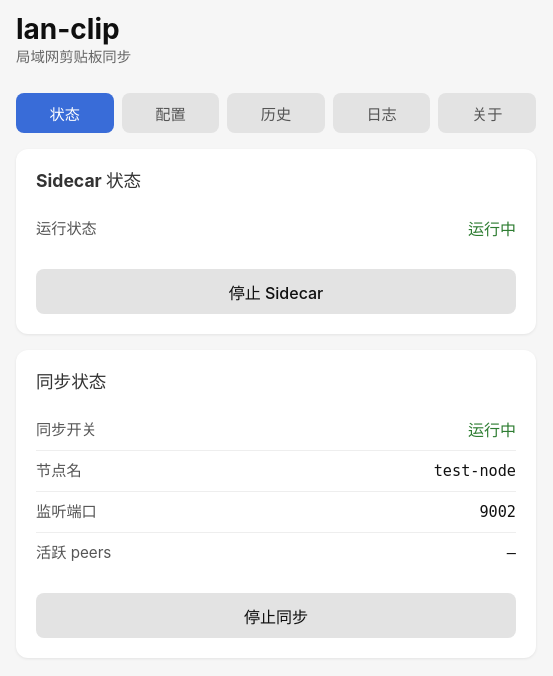
Test: App logs tab › shows empty state when no logs
What coordinates should you click on to do the following:
click the button "日志"
I would click on:
 (382, 113)
Its box is [333, 93, 430, 133].
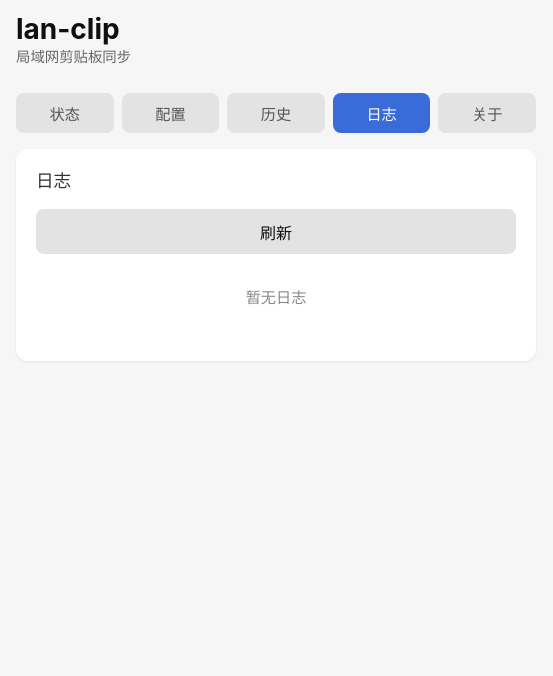
Expected: the text "暂无日志" is shown, [246, 288, 306, 307]
